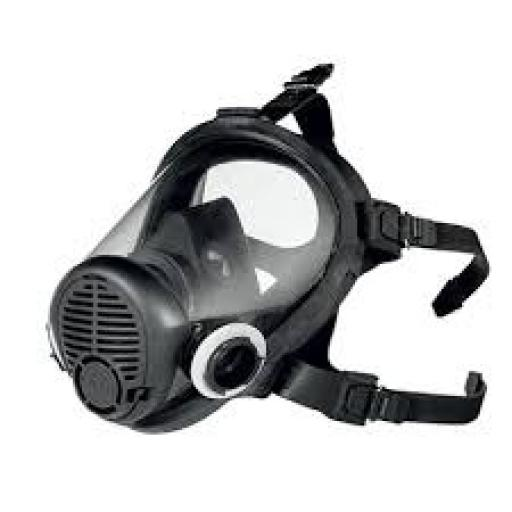mask: (32, 107, 409, 441)
